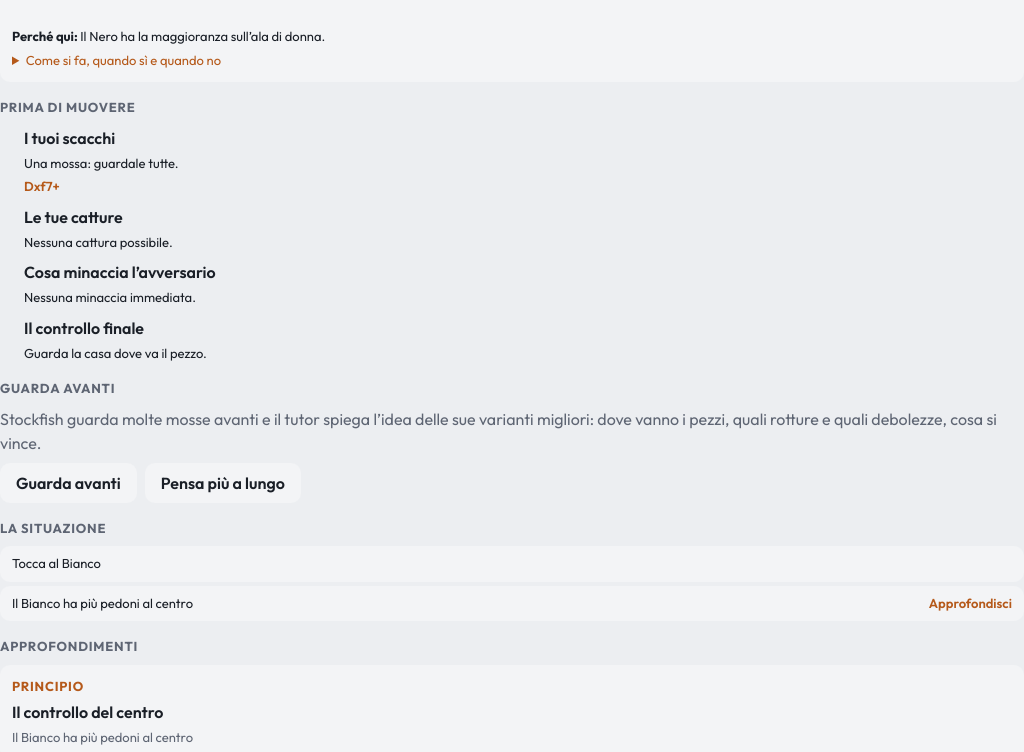
Test: TutorPanel › «Guarda avanti» chiede a Stockfish le idee e le spiega
(page scrolled)
Expected: the text "Tocca al Bianco" is shown, left=12, top=554, right=101, bottom=574
What coordinates should you click on to do the following:
click the button "Guarda avanti"
I would click on:
 (68, 483)
Its box is left=0, top=463, right=137, bottom=503.
(page scrolled)
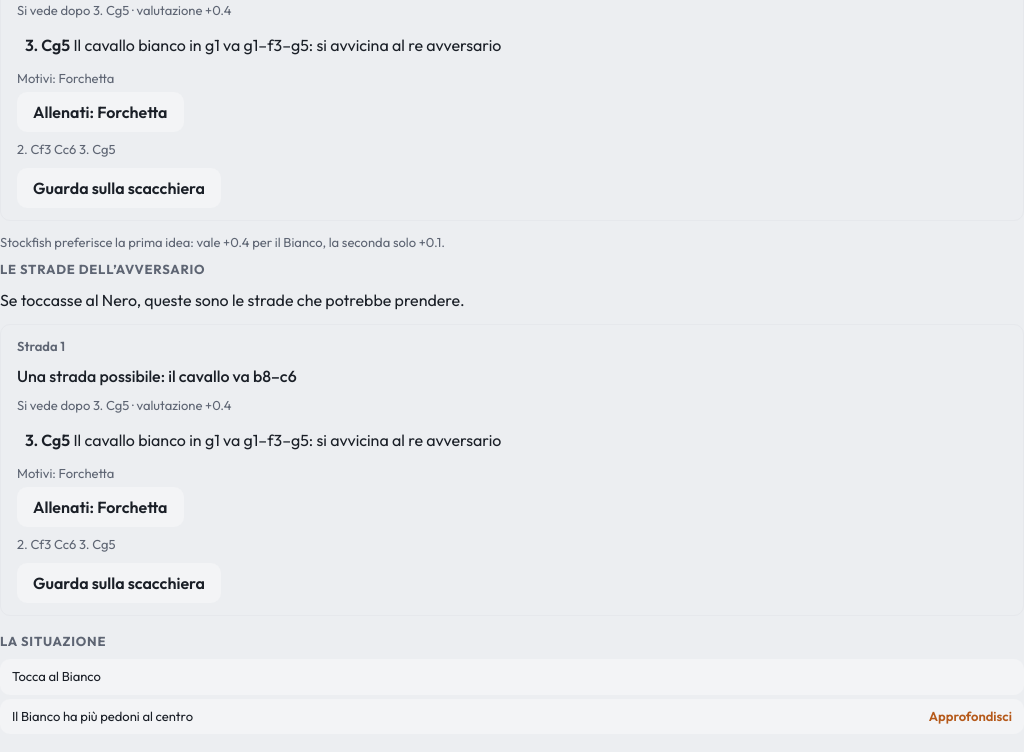
Now the text "Stockfish preferisce la prima idea" is shown, box left=0, top=234, right=445, bottom=250
Now the heading "Le strade dell’avversario" is shown, box left=0, top=261, right=205, bottom=277
Now the text "Una strada possibile: il cavallo va b8–c6" is shown, box left=17, top=364, right=297, bottom=388
